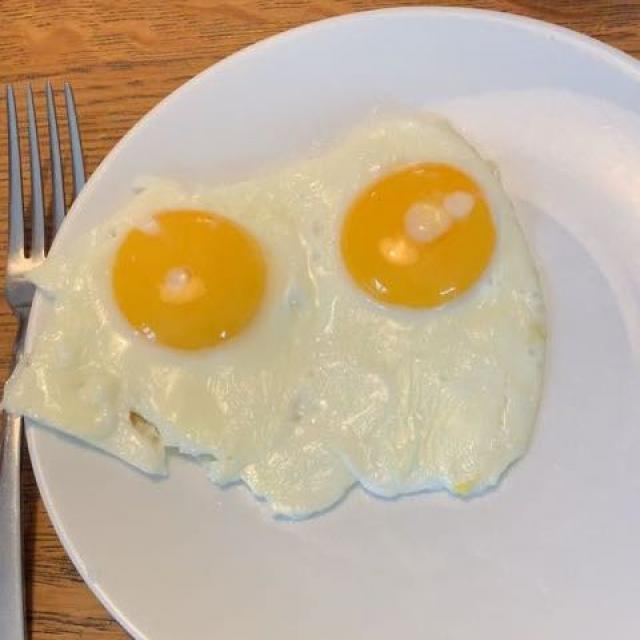egg: (43, 112, 535, 504)
